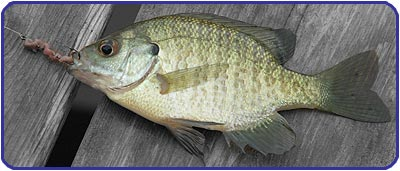fish: (68, 13, 391, 159)
